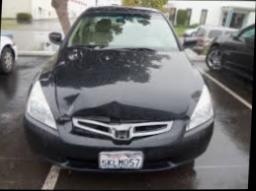Bonnet: (53, 64, 203, 121)
